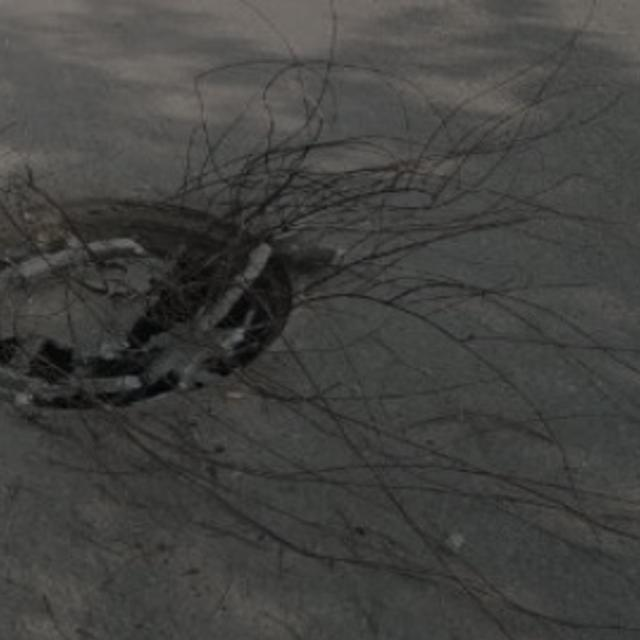broke: (0, 190, 308, 410)
